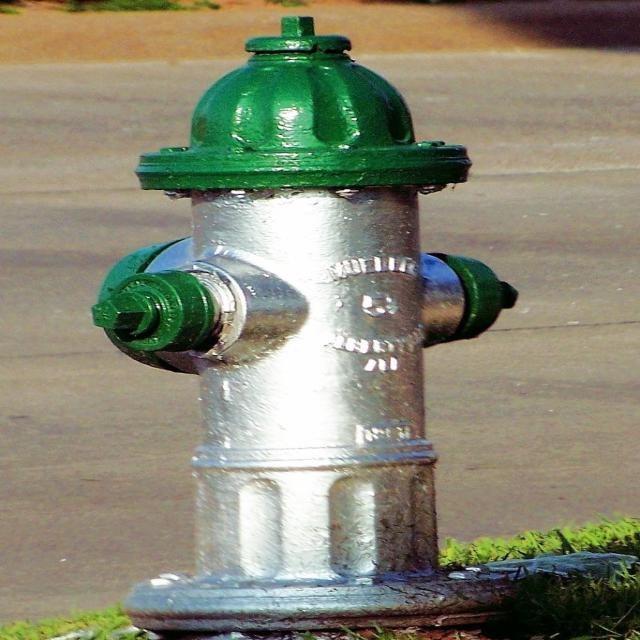fire_hydrant: (89, 12, 636, 640)
